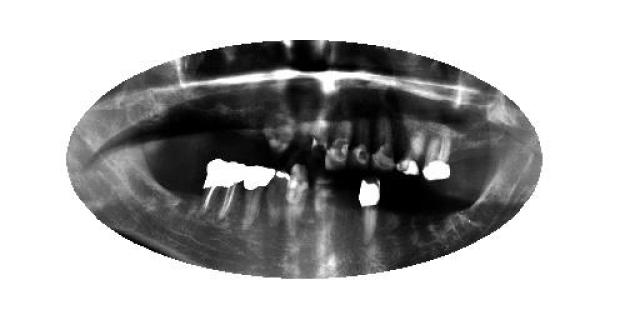Fillings: (243, 165, 275, 229), (356, 179, 382, 246), (423, 134, 452, 182), (222, 208, 226, 210)
Implant: (197, 159, 245, 219)
